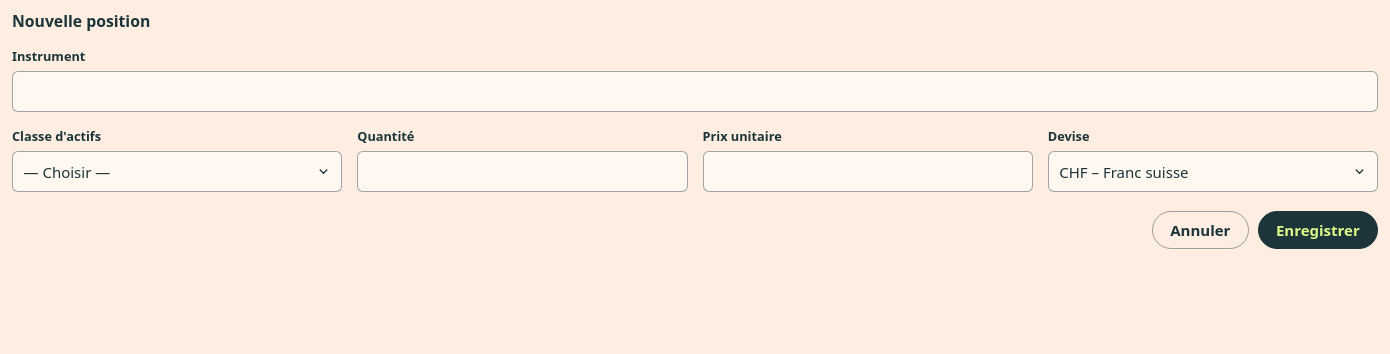
Test: PositionForm › affiche sous chaque champ les erreurs de validation renvoyées par l’API
Type "-3" into the field labelled "Quantité".
click(522, 172); type("-3")  # box x1=357 y1=151 x2=688 y2=192
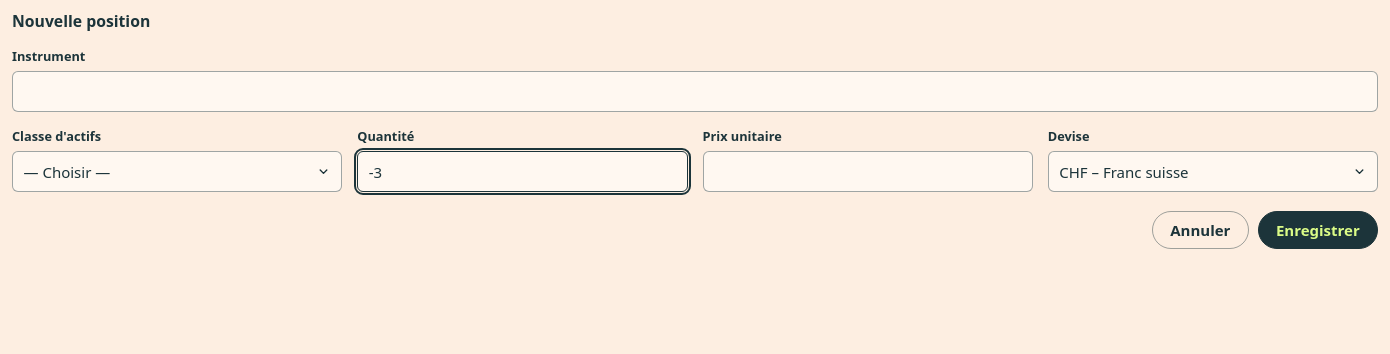
Click the button "Enregistrer".
click(1318, 230)  # box x1=1258 y1=211 x2=1378 y2=249
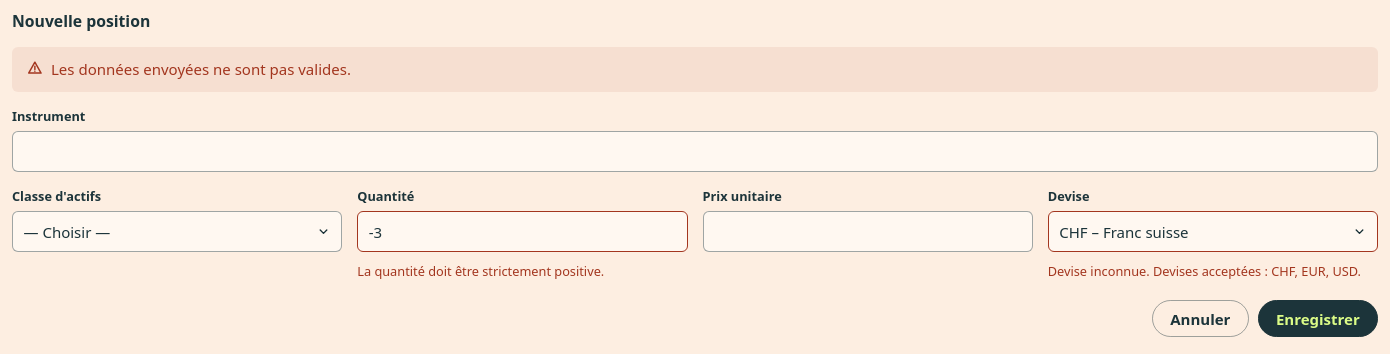
expect the message reads "Les données envoyées ne sont pas valides.": met, box x1=51 y1=59 x2=351 y2=79
